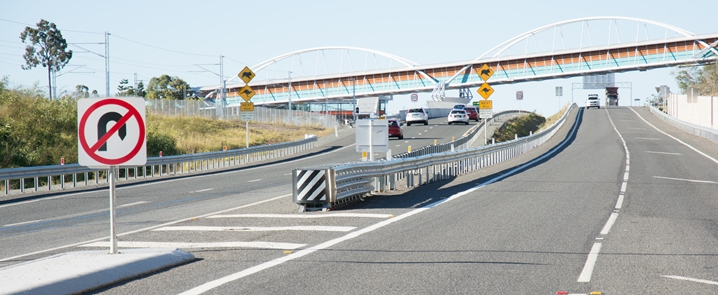Car: (394, 106, 433, 126), (445, 108, 472, 126)
